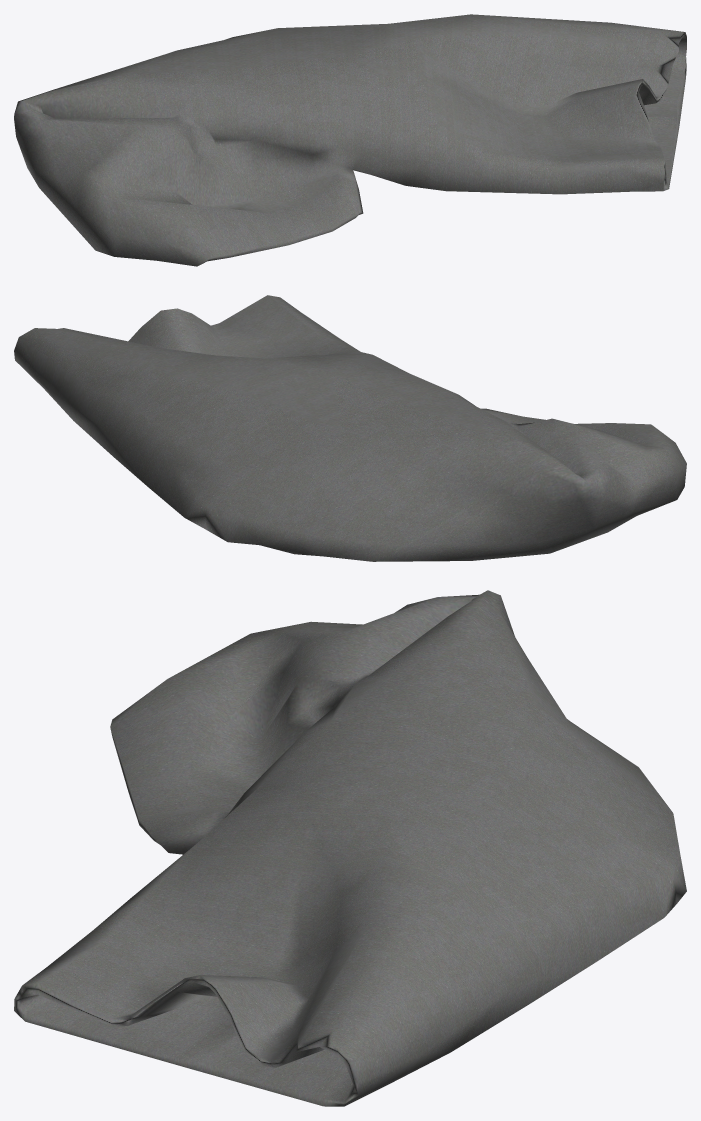
File: SM_ClothA_01.fbx
The picture shows the model from 3 angles, top to bottom: view 1: azimuth 30°, elevation 25°; view 2: azimuth 150°, elevation 25°; view 3: azimuth 270°, elevation 25°; orthographic projection. The views are drawn at different scales.
Parts seen in each view (by area): view 1: SM_ClothA_01_LOD2; view 2: SM_ClothA_01_LOD2; view 3: SM_ClothA_01_LOD2.
Boxes of the visible parts, x1,y1,x2,y2 form: SM_ClothA_01_LOD2: (14, 14, 686, 266); SM_ClothA_01_LOD2: (14, 295, 686, 561); SM_ClothA_01_LOD2: (14, 590, 686, 1106).
Size of the model in its own units: 147 by 21 by 97.62.
